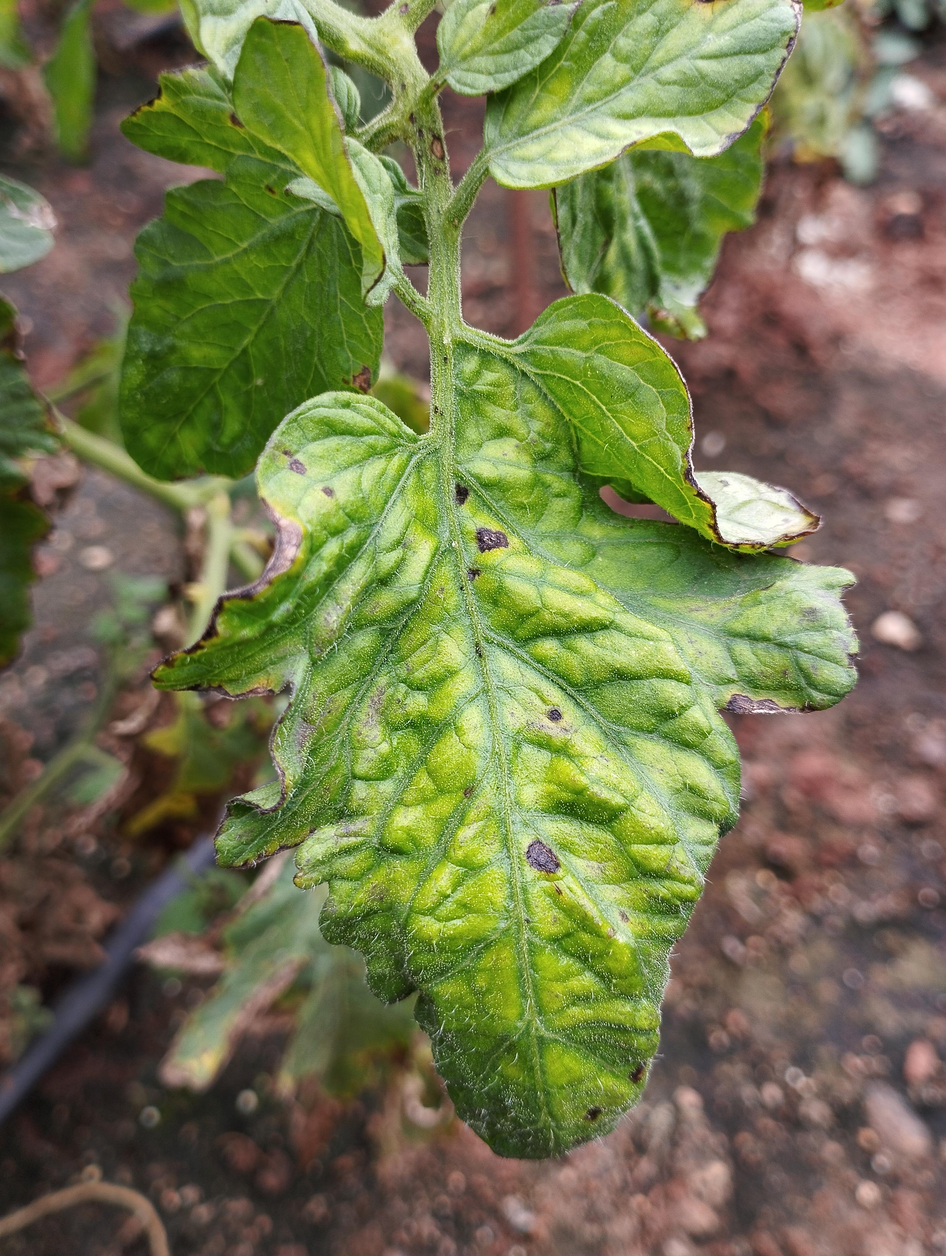Early Blight: (133, 288, 869, 1178)
